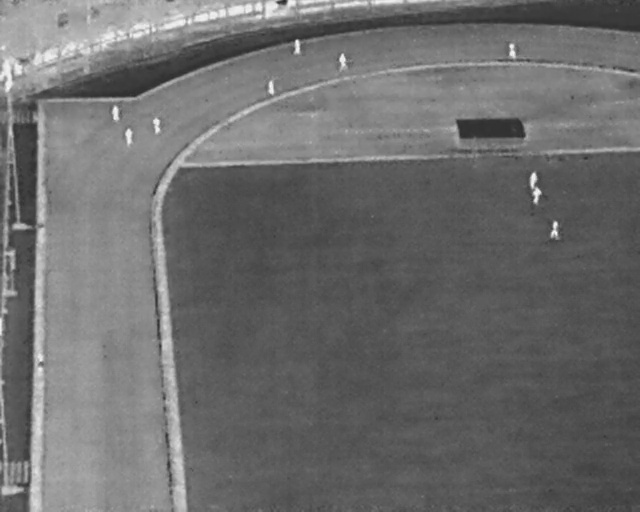Person: (532, 187, 542, 205), (339, 52, 348, 72), (153, 117, 162, 136), (529, 171, 538, 190), (551, 220, 559, 240), (111, 105, 120, 122), (293, 39, 302, 56), (125, 128, 133, 147), (267, 78, 275, 96), (37, 356, 45, 374), (508, 43, 516, 59)
